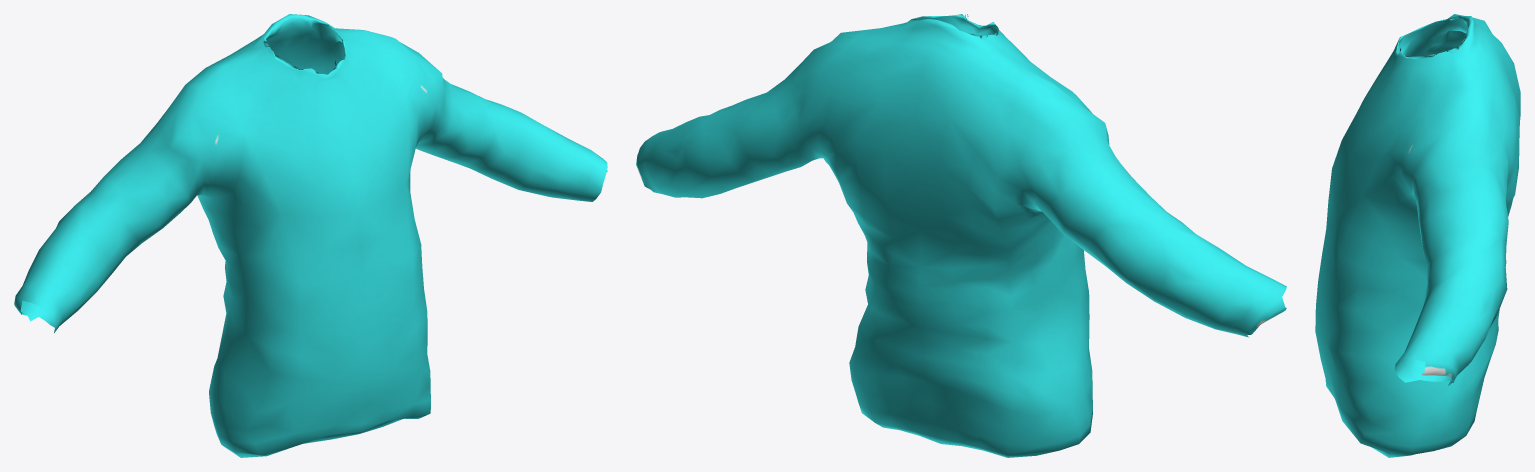
Rendered from kmi_tops.fbx.
The picture shows the model from 3 angles, left to right: view 1: azimuth 30°, elevation 25°; view 2: azimuth 150°, elevation 25°; view 3: azimuth 270°, elevation 25°; orthographic projection. The views are drawn at different scales.
Parts seen in each view (by area): view 1: Extract3_3; view 2: Extract3_3; view 3: Extract3_3.
Part boxes in pixels (x1,y1,x2,y2): Extract3_3: [14, 14, 607, 457]; Extract3_3: [636, 14, 1286, 457]; Extract3_3: [1315, 14, 1520, 457].
Size of the model in its own units: 1.36 by 0.8723 by 0.4118.
Materials: 1 (1 with a texture image).
